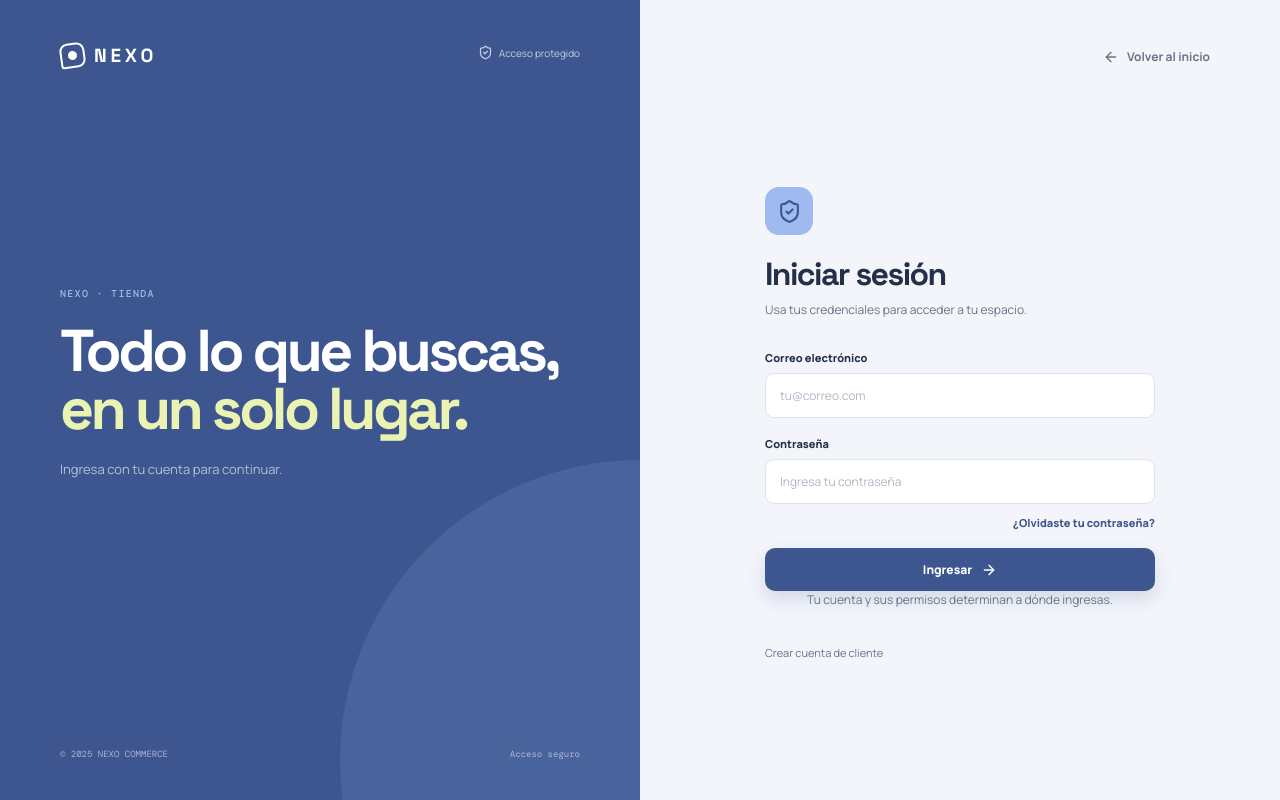
Scenario: acceso público y administrativo › limpia el código MFA inválido y el mensaje al corregir el correo
Step 1. Type "ana@example.test" into the field labelled "Correo electrónico" → (960, 396), box [765, 373, 1155, 418]
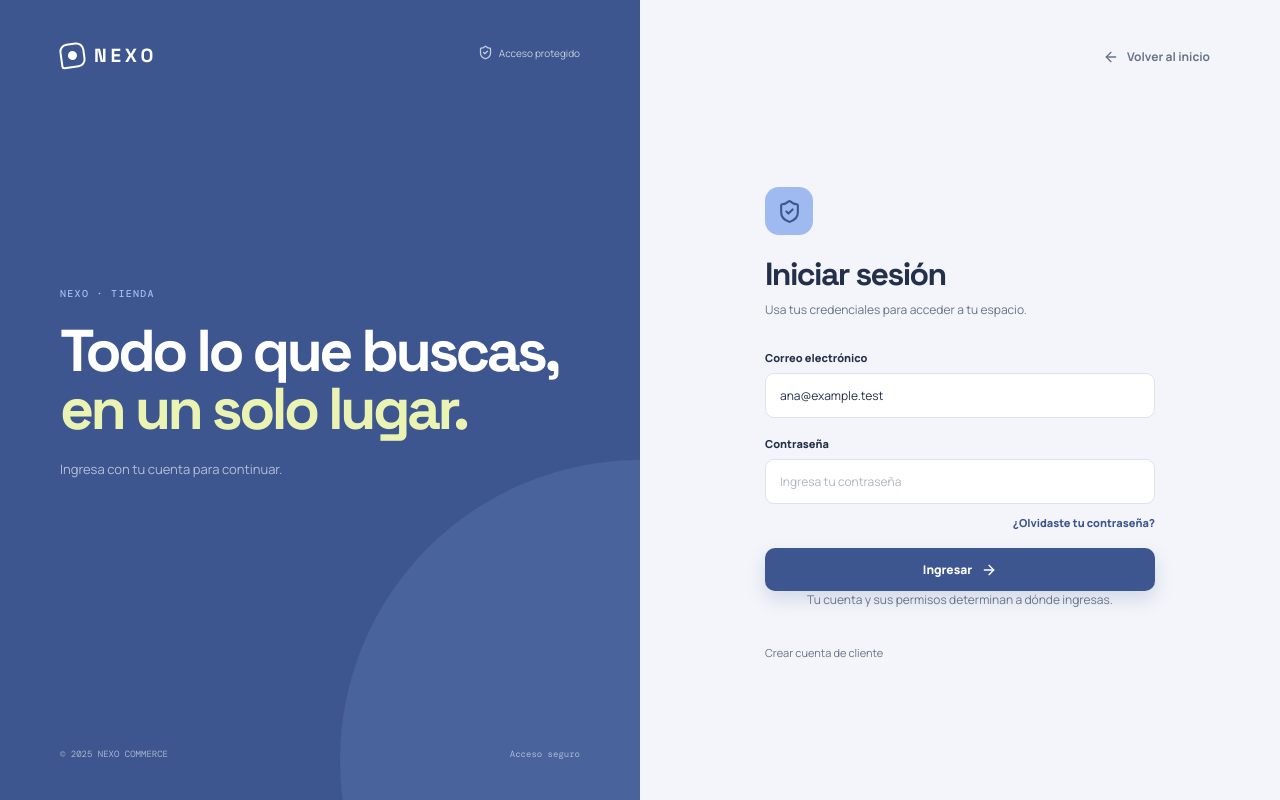
Step 2. Type "ContraseñaSegura123!" into the password field labelled "Contraseña" → (960, 482), box [765, 459, 1155, 504]
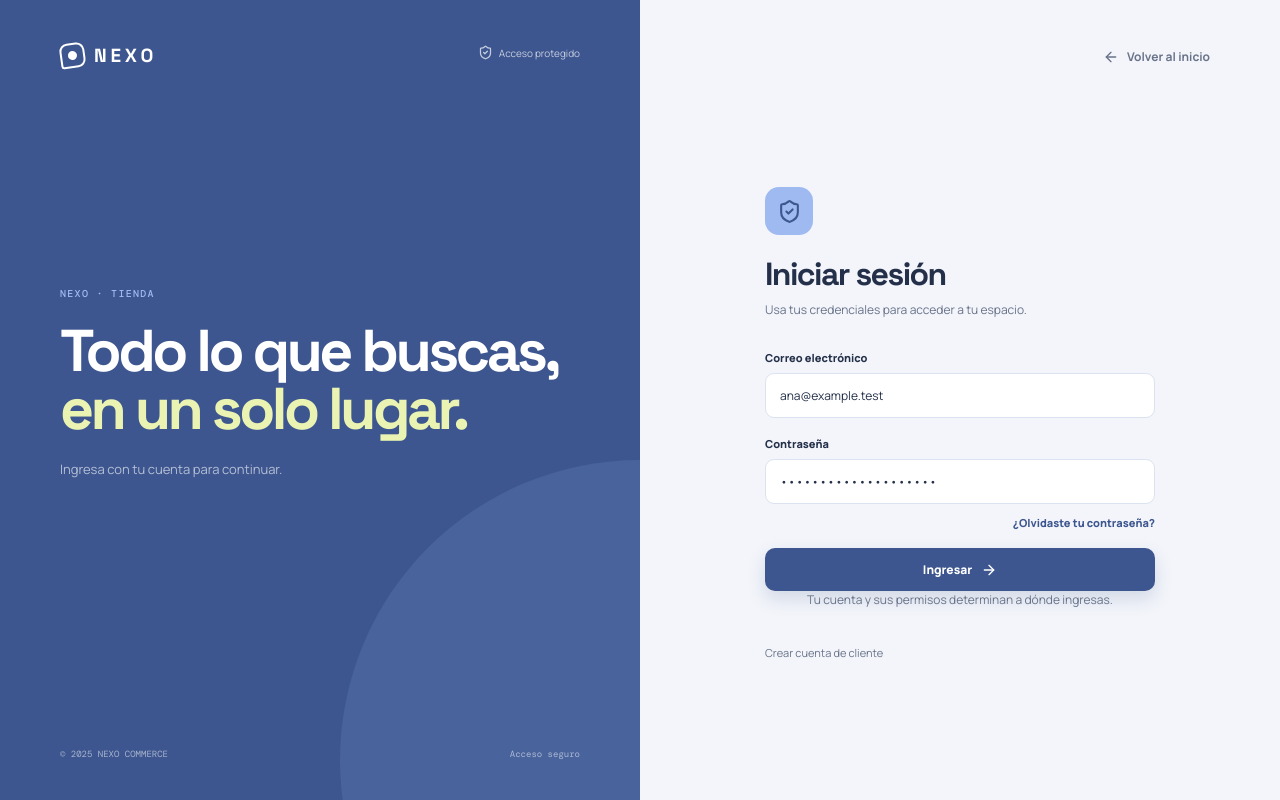
Step 3. Submit the form "Ingresar", box [765, 350, 1155, 591]
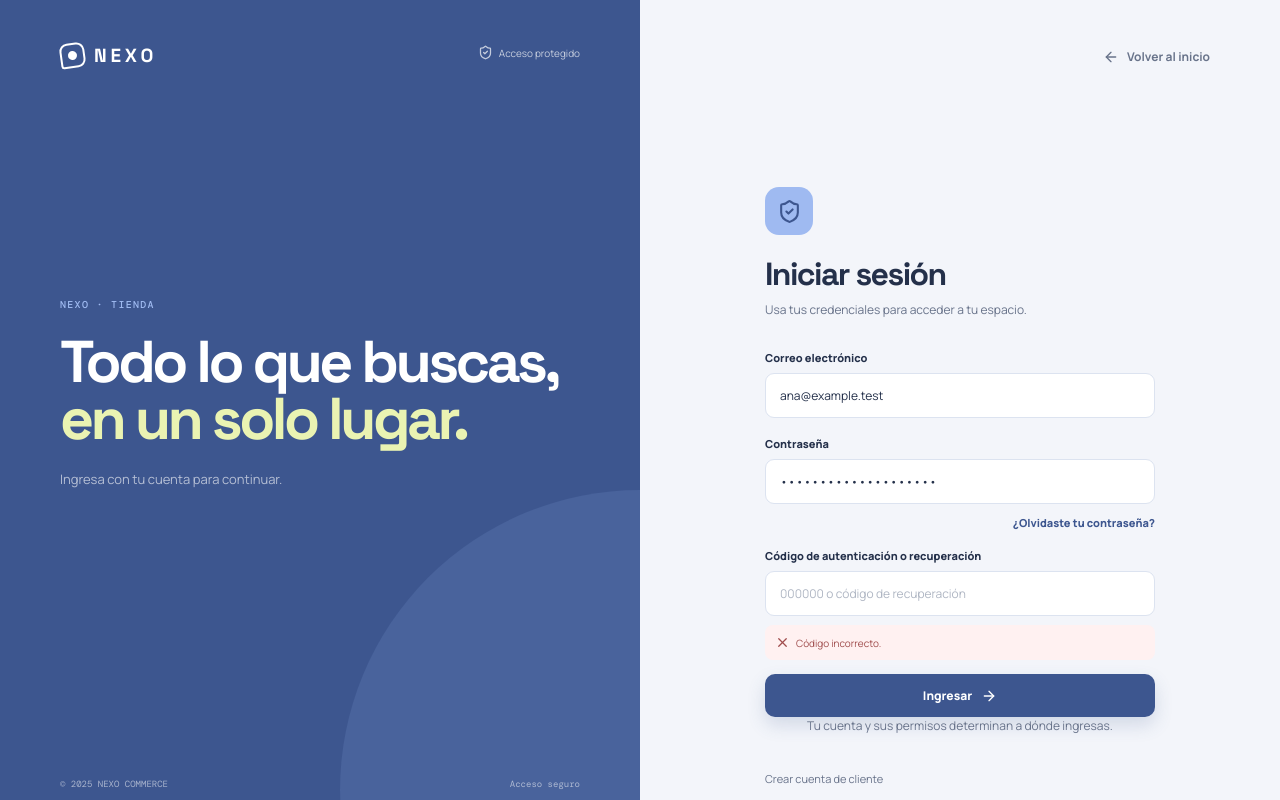
Expected: the message shows "Código incorrecto", [796, 636, 881, 650]
Expected: the field labelled "Código de autenticación o recuperación" is empty, [765, 571, 1155, 616]
Step 4. Replace the text in the field labelled "Correo electrónico" with "otra@example.test" → (960, 396), box [765, 373, 1155, 418]
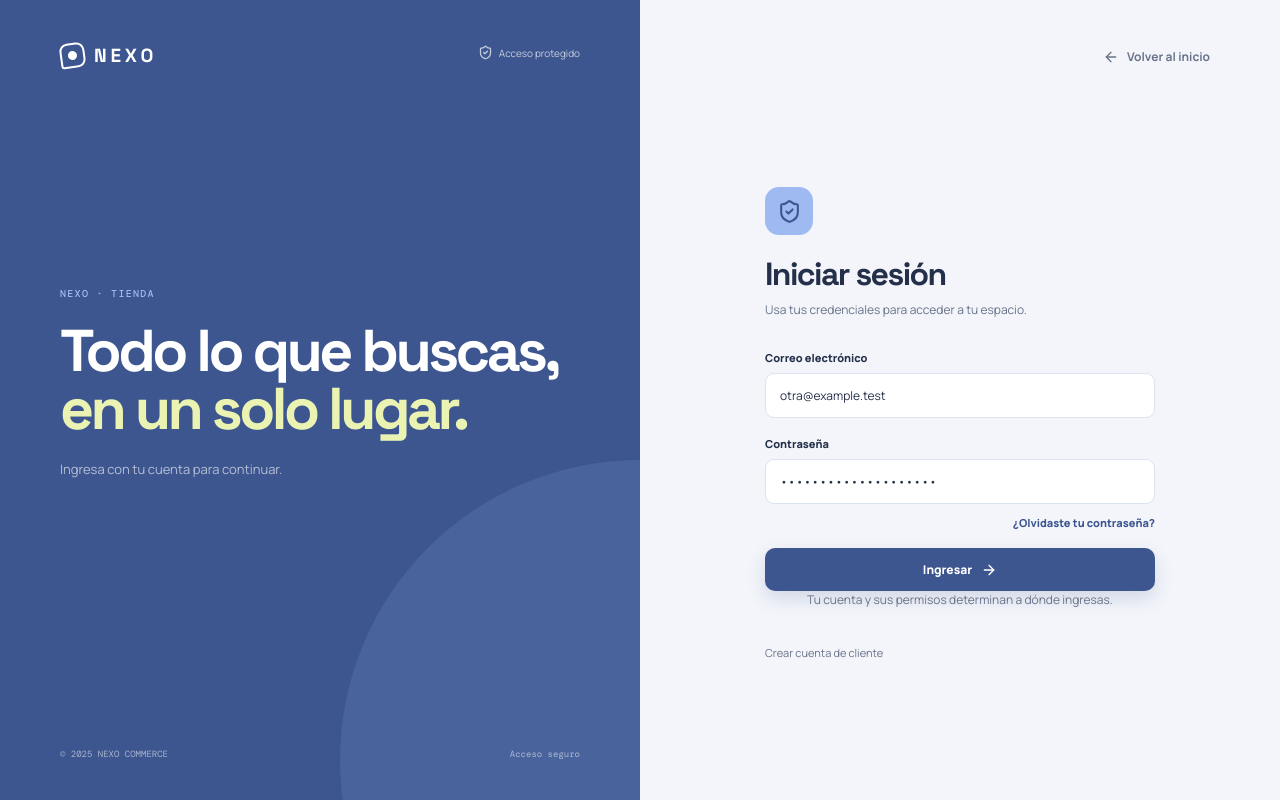
Expected: the text labelled "Código de autenticación o recuperación" is gone
Expected: the message "Código incorrecto." is gone
